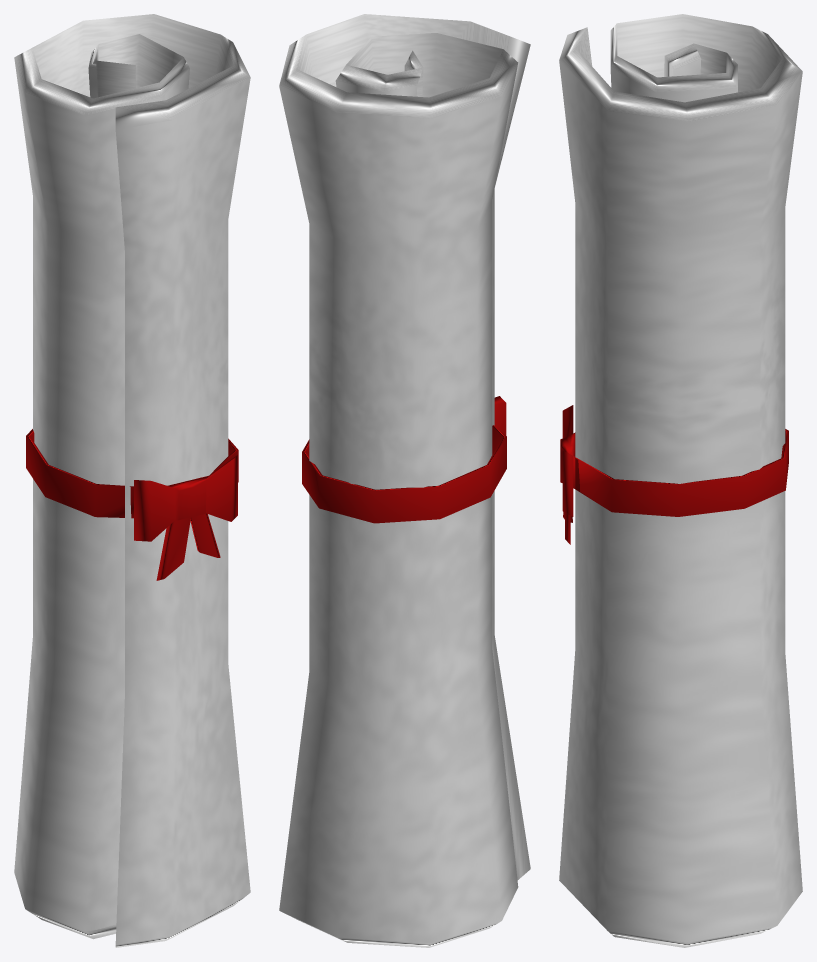
File: Carpet roll.fbx
3 renders of one model, left to right at view 1: azimuth 30°, elevation 25°; view 2: azimuth 150°, elevation 25°; view 3: azimuth 270°, elevation 25°, orthographic.
Visible parts, largest first — view 1: pPlane2; view 2: pPlane2; view 3: pPlane2.
Part boxes in pixels (x1,y1,x2,y2): pPlane2: (14, 14, 250, 947); pPlane2: (279, 14, 530, 947); pPlane2: (559, 14, 802, 947).
Size of the model in its own units: 0.4842 by 1.86 by 0.4862.
Materials: 2 (1 with a texture image).
